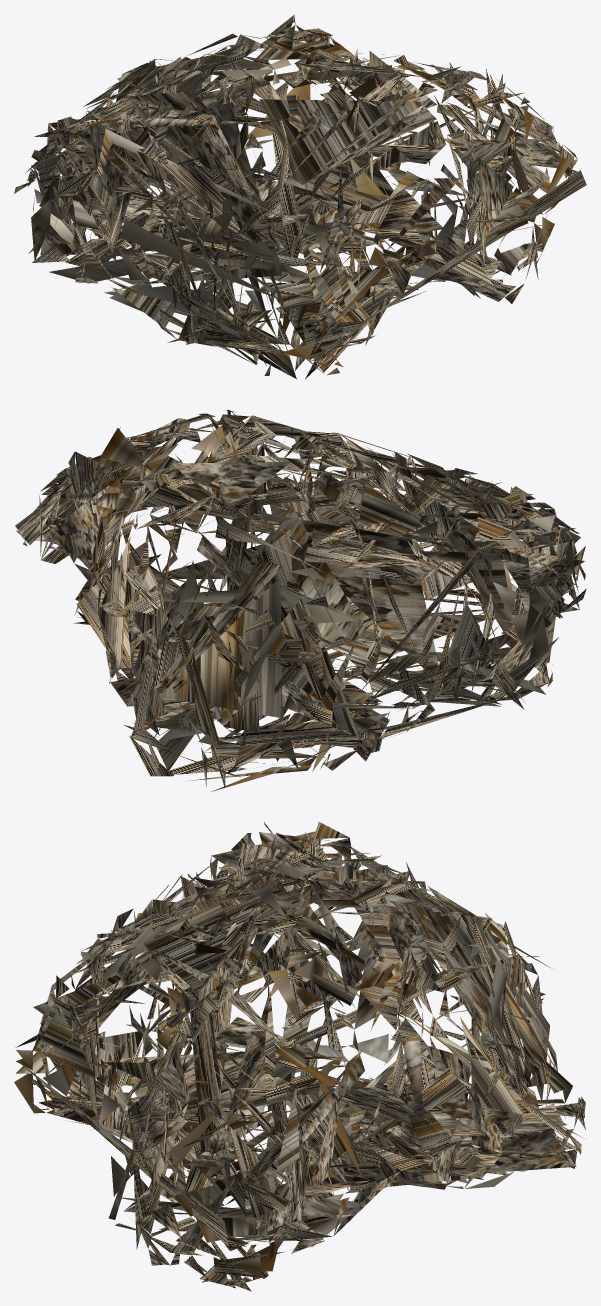
The model's file is real-coral-scan.glb.
3 views of the same model, one above another, from view 1: azimuth 30°, elevation 25°; view 2: azimuth 150°, elevation 25°; view 3: azimuth 270°, elevation 25° (orthographic). The views are drawn at different scales.
Bounding box in the file's own units: 0.0789 × 0.0353 × 0.0654.
1 material, 1 textured.
